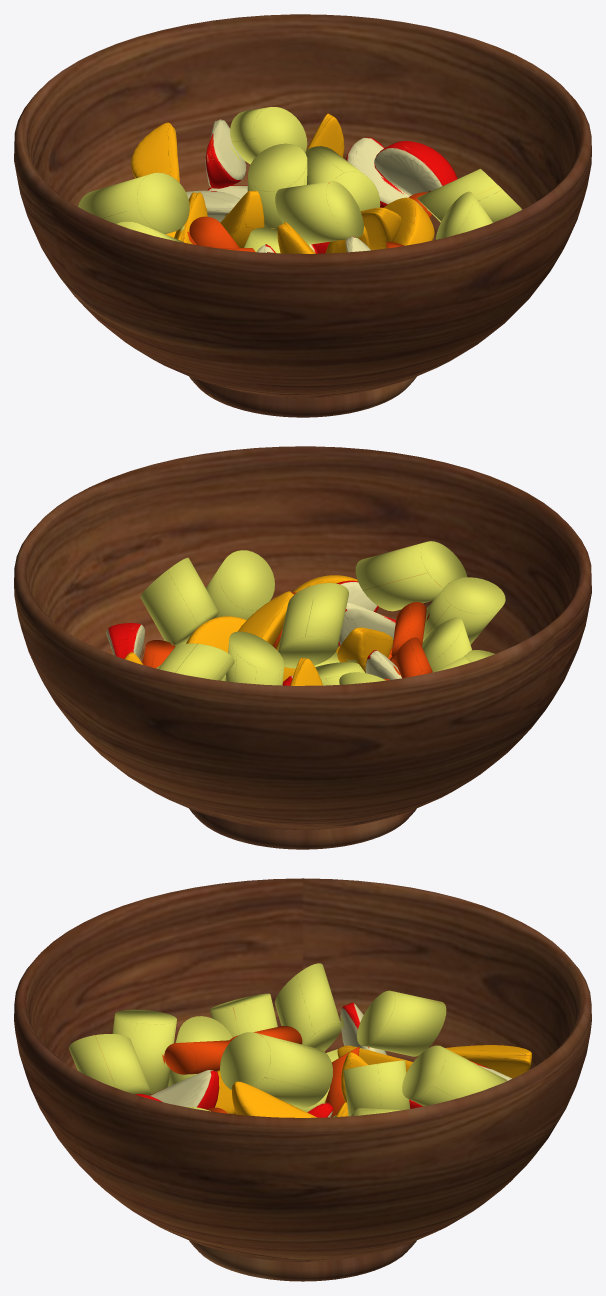
Rendered from SM_Bowl_FruitSalad.fbx.
3 renders of one model, top to bottom at view 1: azimuth 30°, elevation 25°; view 2: azimuth 150°, elevation 25°; view 3: azimuth 270°, elevation 25°, orthographic.
Visible parts, largest first — view 1: SM_Bowl_FruitSalad.001; view 2: SM_Bowl_FruitSalad.001; view 3: SM_Bowl_FruitSalad.001.
Part boxes in pixels (x1,y1,x2,y2): SM_Bowl_FruitSalad.001: (14,14,591,417); SM_Bowl_FruitSalad.001: (14,446,591,849); SM_Bowl_FruitSalad.001: (14,878,591,1281).
Size of the model in its own units: 64.06 by 29.86 by 64.06.
2 materials, 2 textured.
